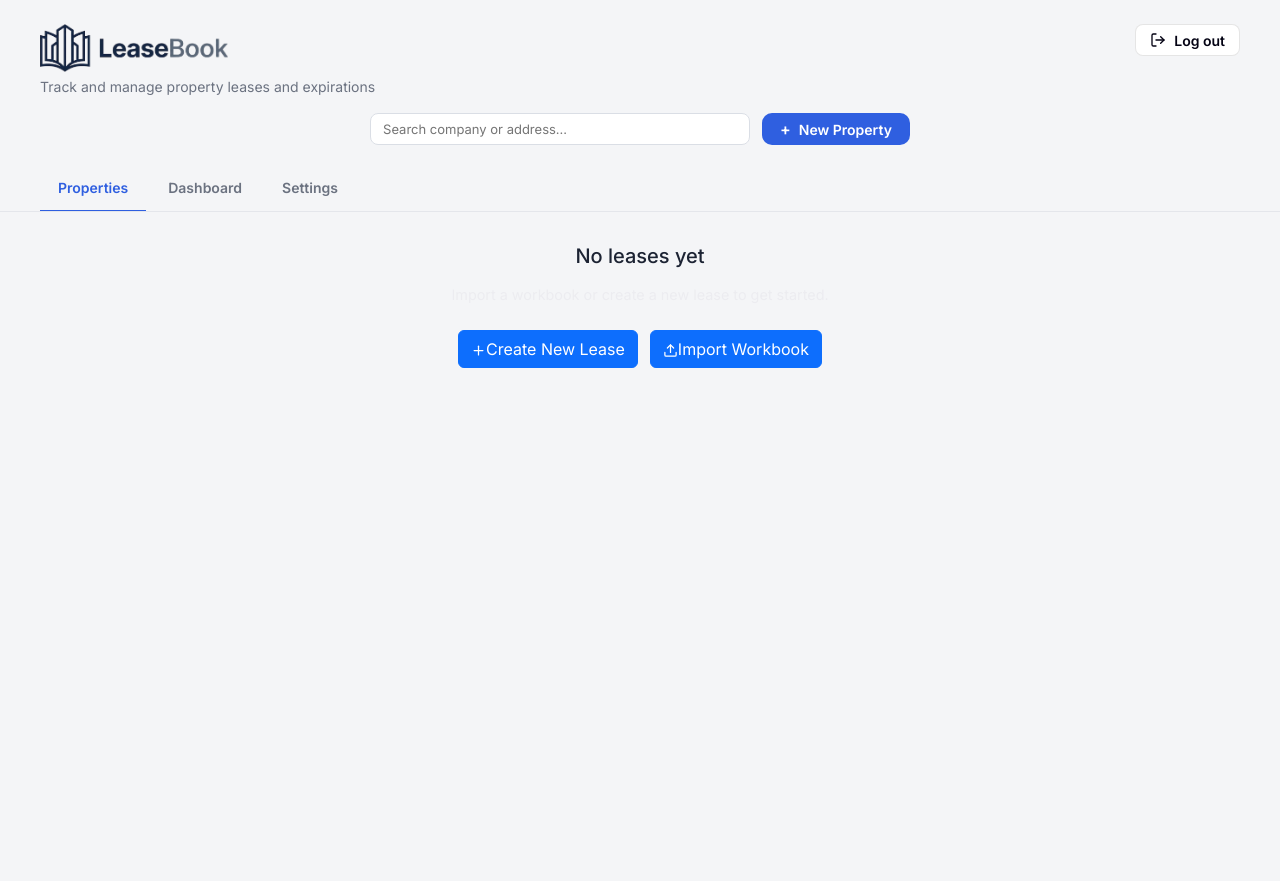
Scenario: App auth flow › removes password protection from Settings when auth is configured
Click the button "Settings".
click(310, 188)  # box [264,165,356,212]
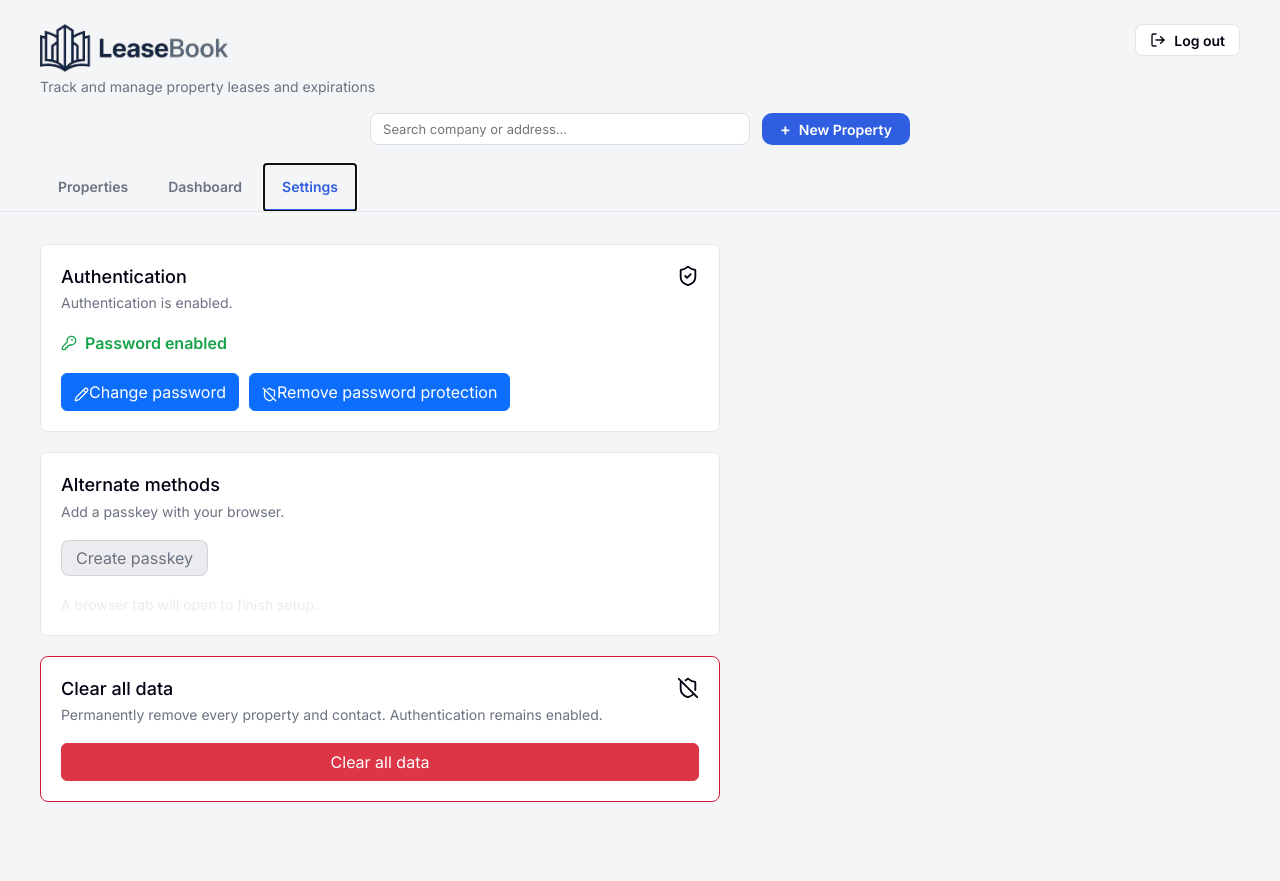
Click the button "Remove password protection".
click(380, 392)  # box [249,373,510,411]
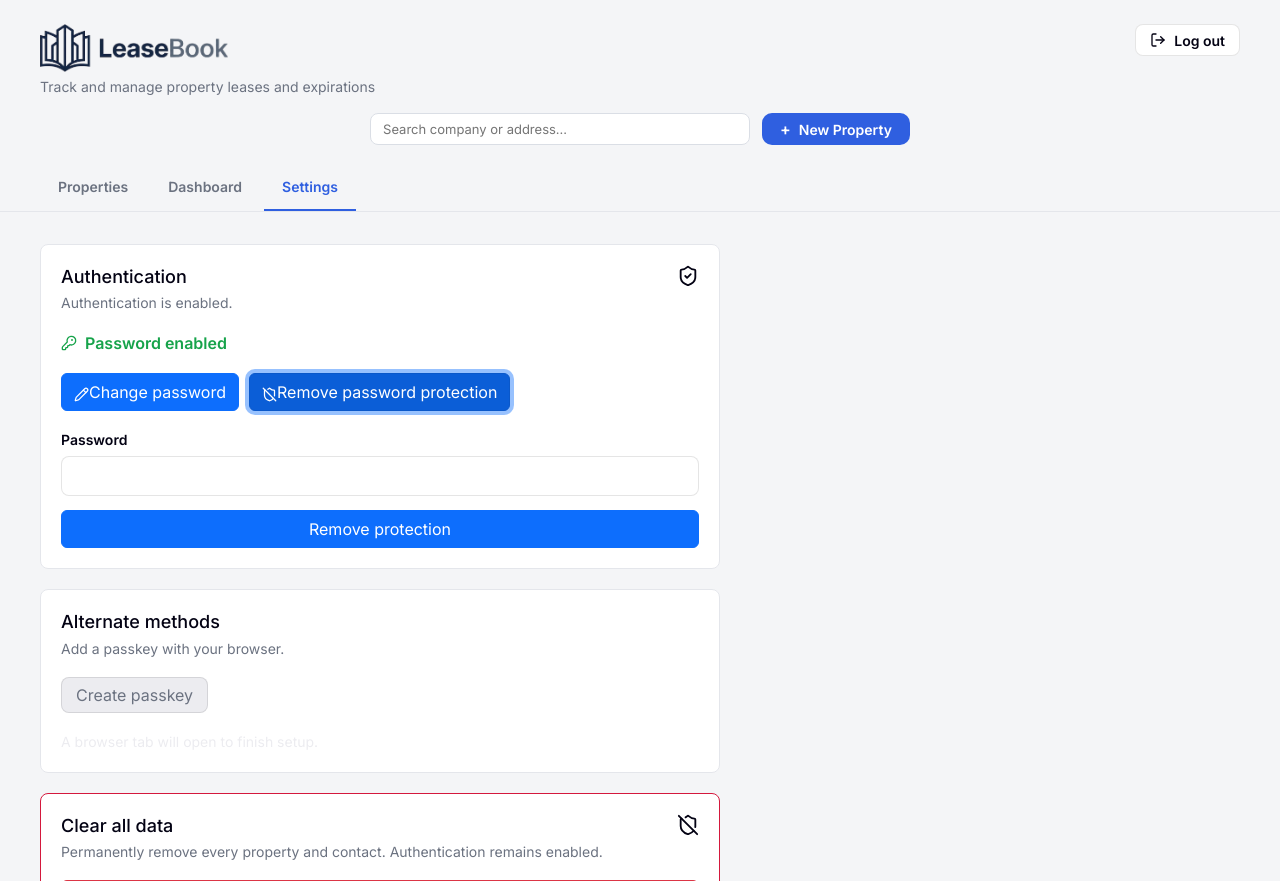
Type "correct-password" into the password field labelled "Password".
click(380, 476); type("correct-password")  # box [61,456,699,496]
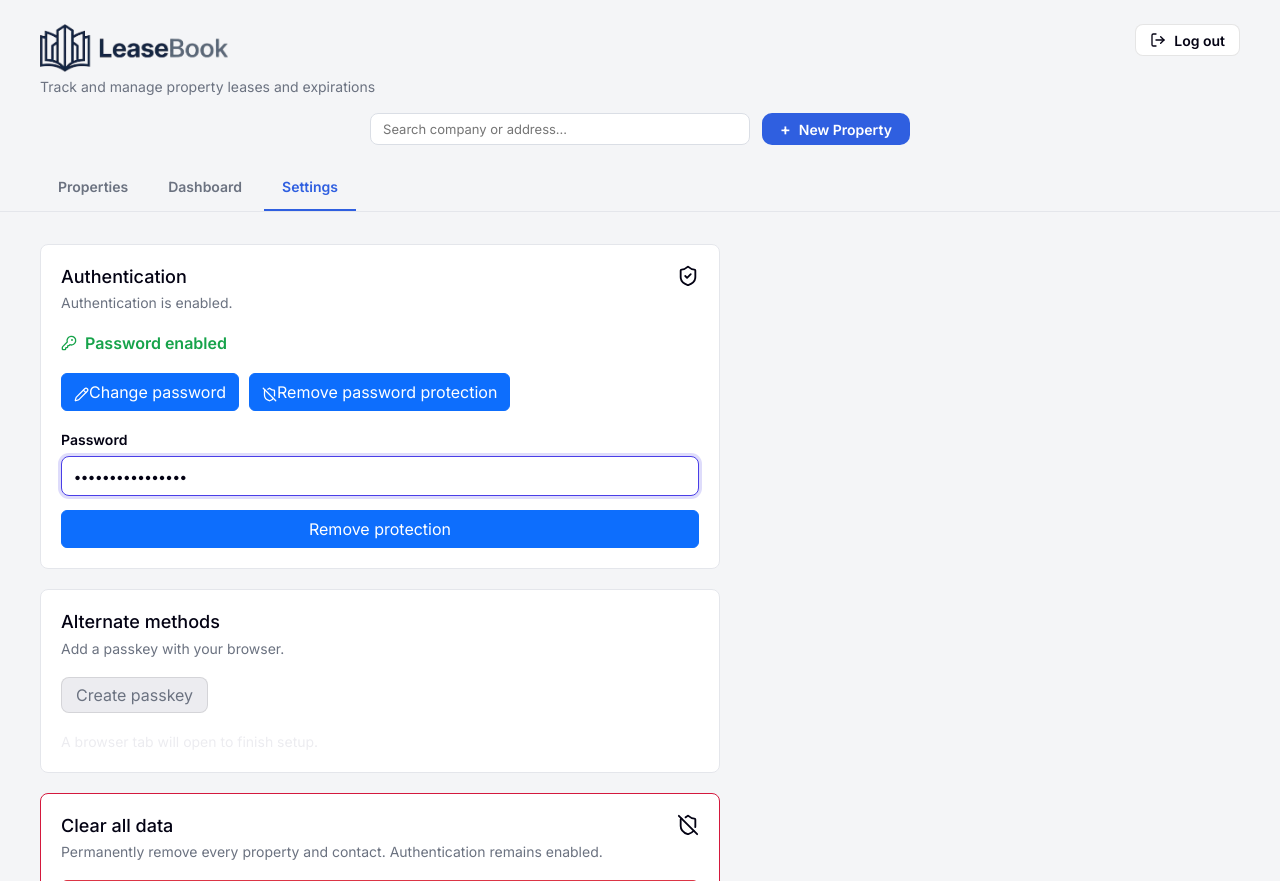
Click the button "Remove protection".
click(380, 529)  # box [61,510,699,548]
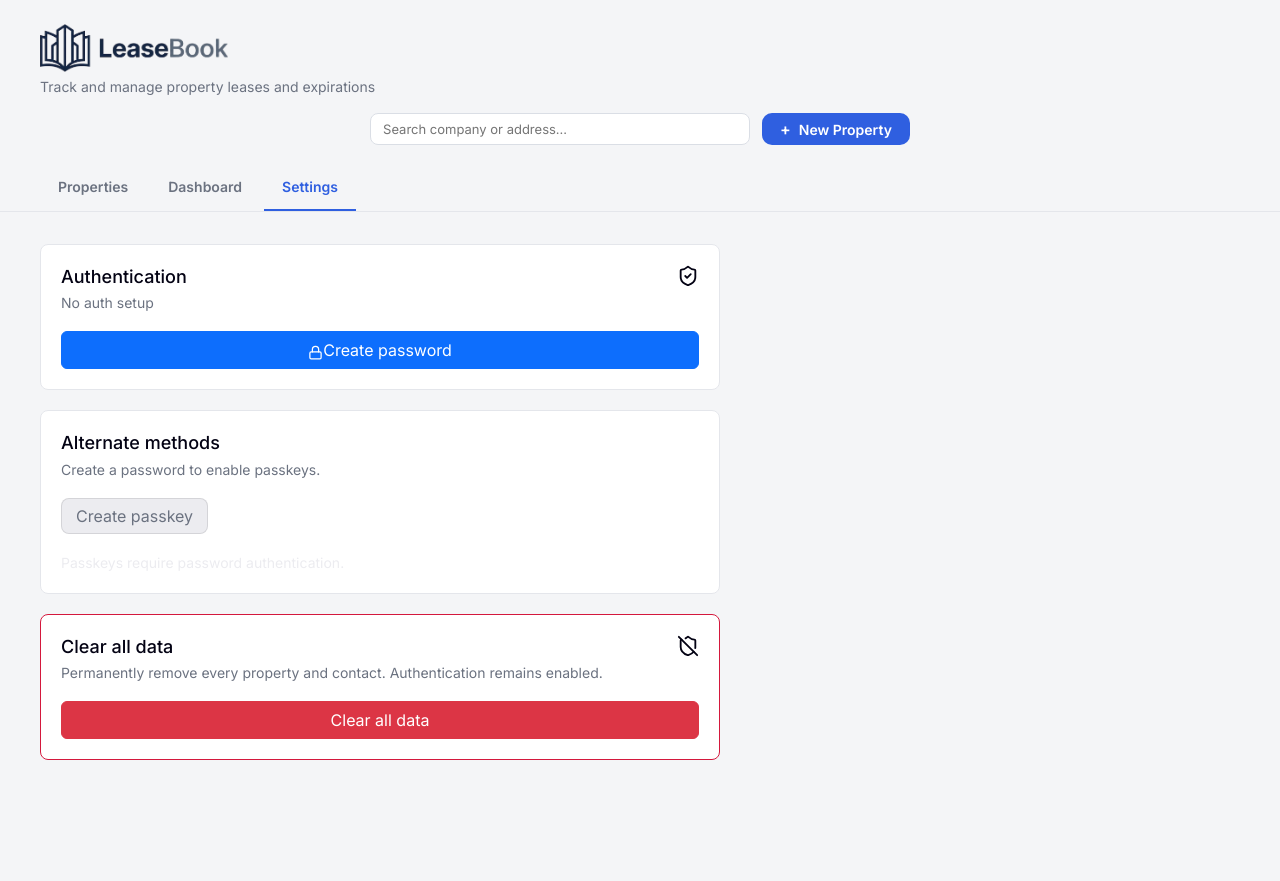
Now the text "No auth setup" is shown, box [61,294,154,311]
